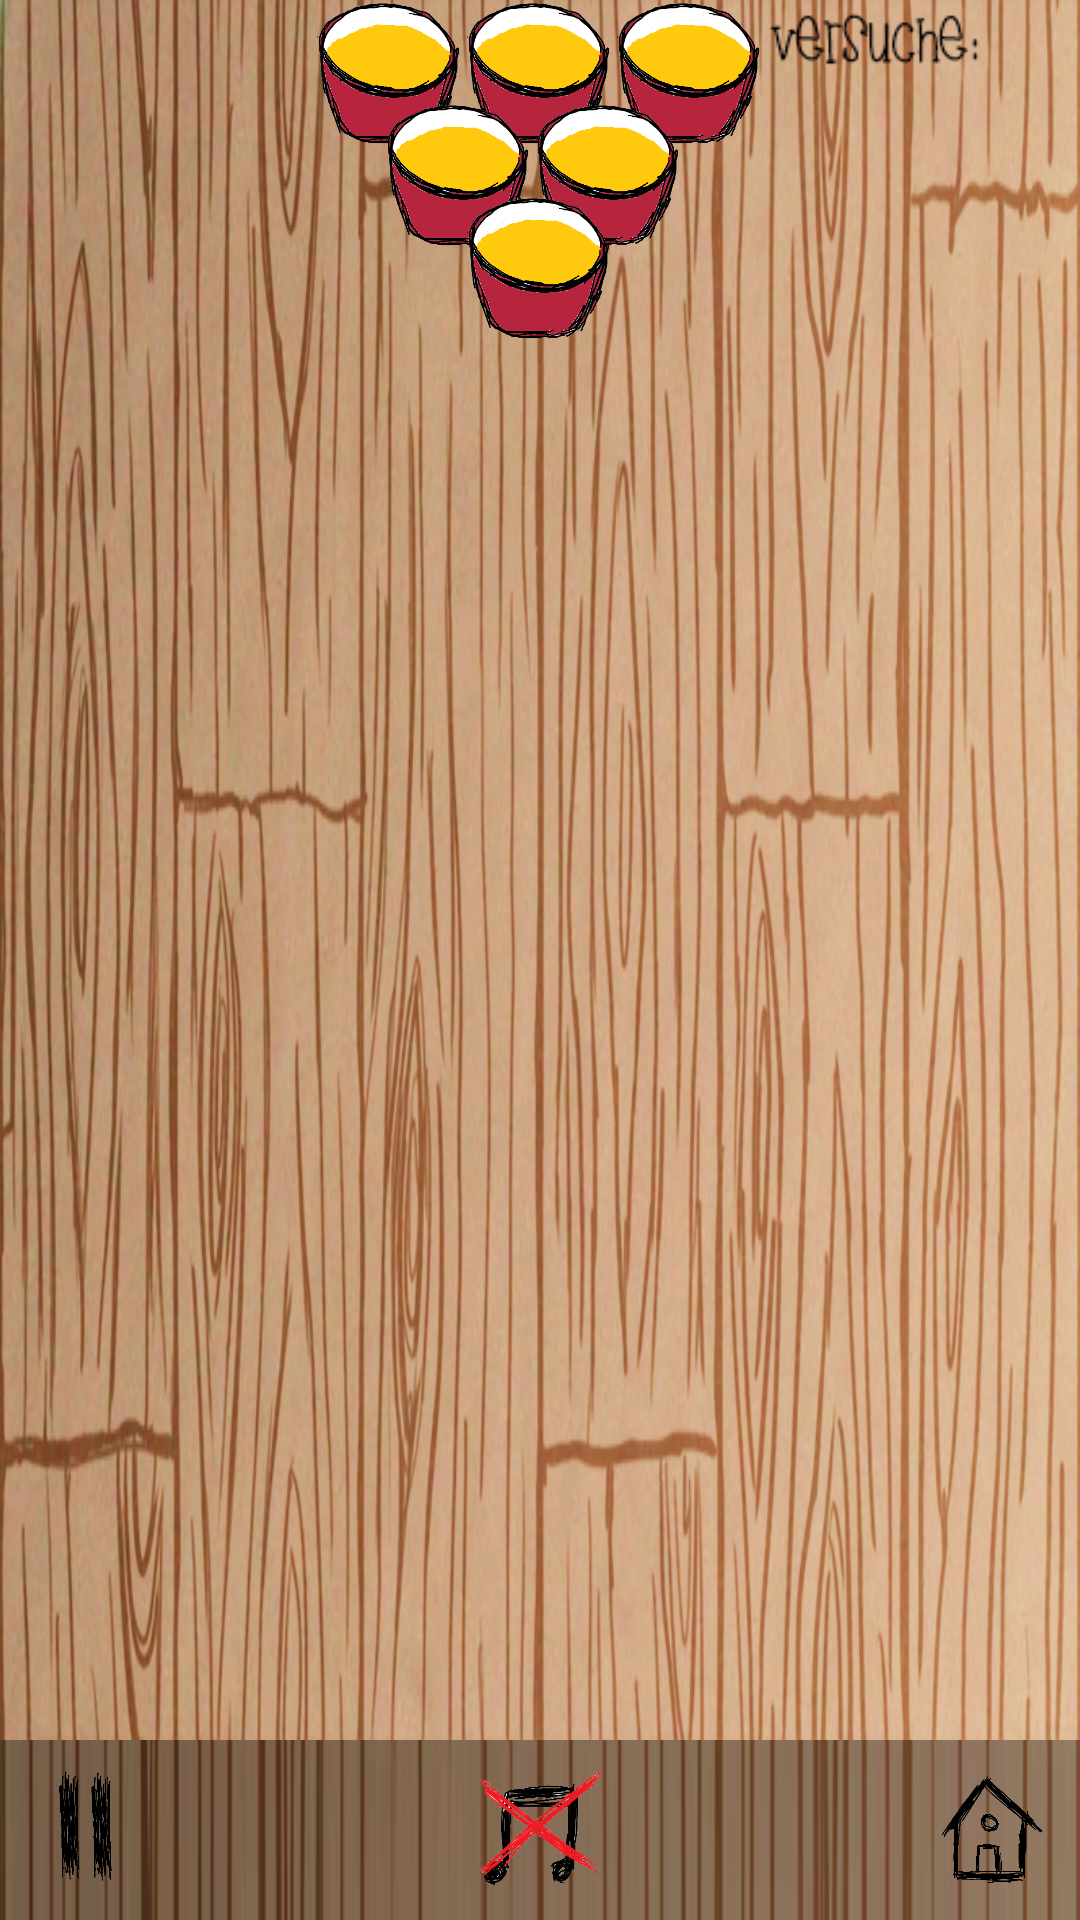

Where to tap for icons on this 1080×1920 app screen, as (x,y):
home: (990,1830)
pause: (89,1830)
redcup: (390,75), (540,75), (689,75), (459,177), (609,177), (540,270)
